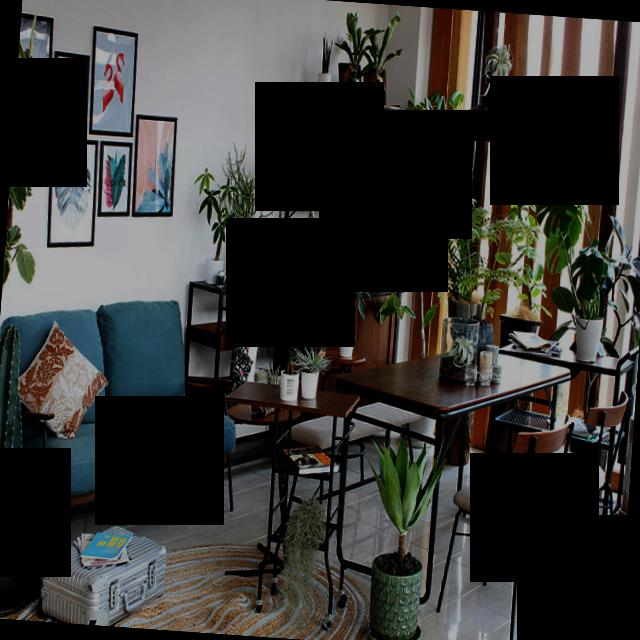vintage chair: (434, 405, 575, 640), (516, 383, 629, 614)
vintage desk: (323, 338, 572, 619)
vintage shelf: (272, 90, 413, 362)
vintage sofa: (0, 283, 253, 534)
